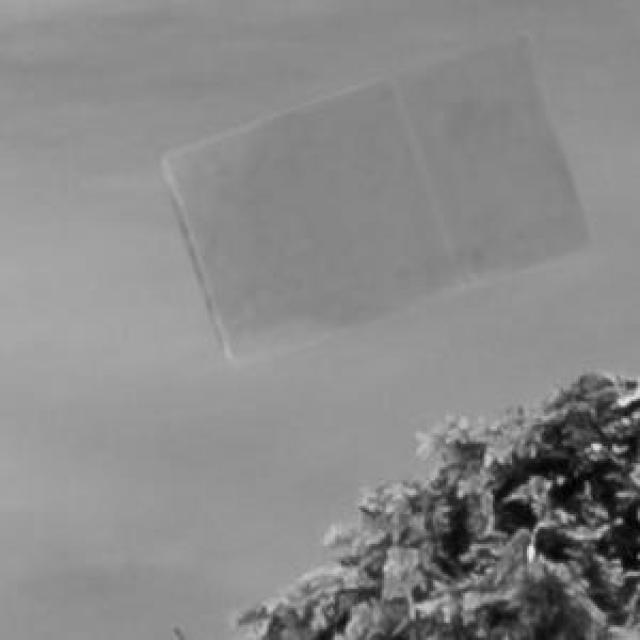paper: (160, 32, 589, 361)
